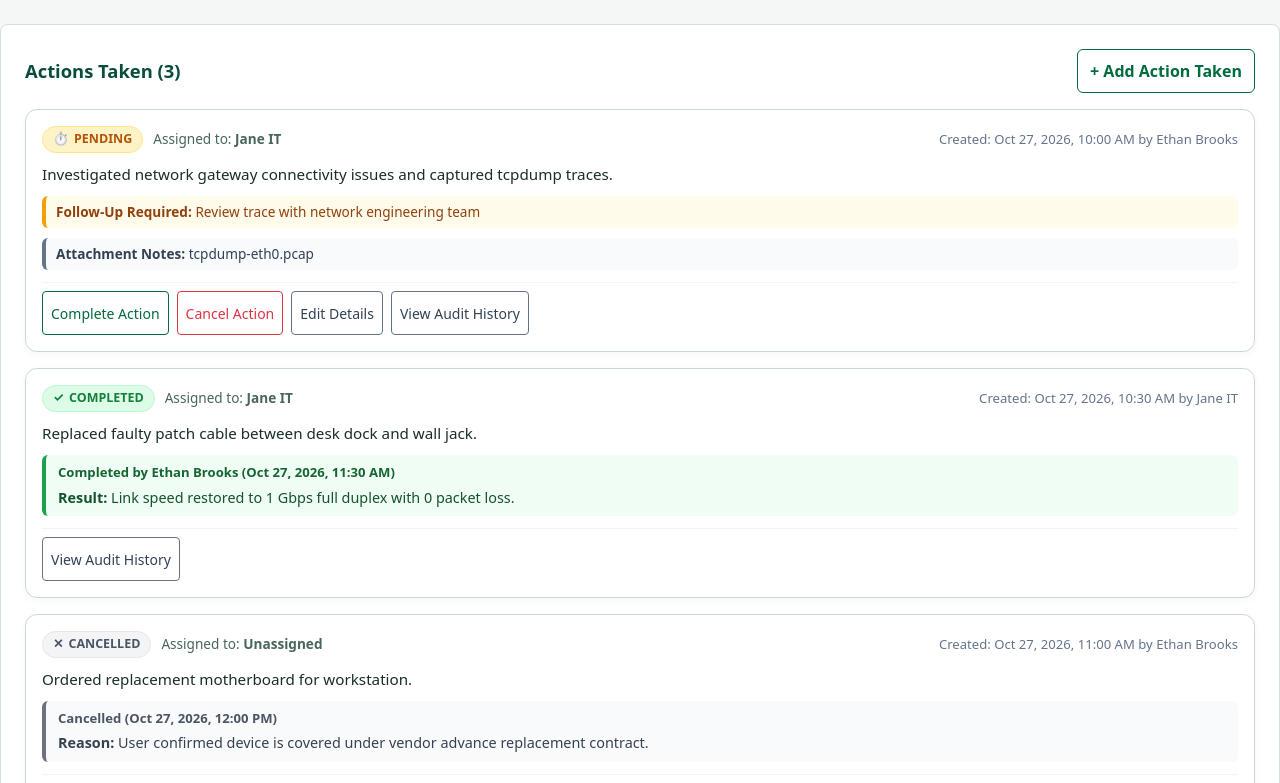
Test case: Lab 4: ActionsTakenSection Component Tests › requires a non-empty cancellation reason (peer requirement) and submits cancellation
Click the button "Cancel Action" at (230, 313), box 177,291 -> 283,335
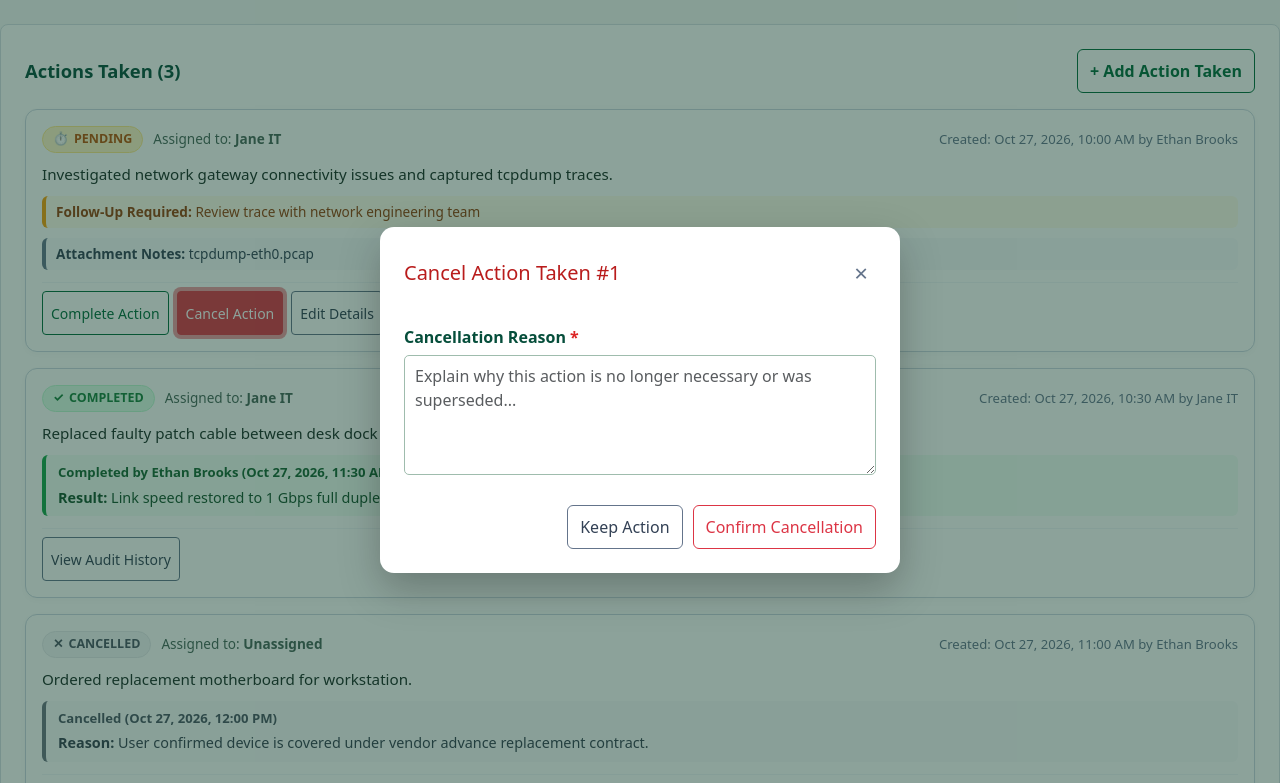
Expected: the dialog "Cancel Action Taken" is shown, 380,227 -> 900,573
Note: Try submitting with empty reason
Click the button "Confirm Cancellation" at (784, 527), box 693,505 -> 876,549
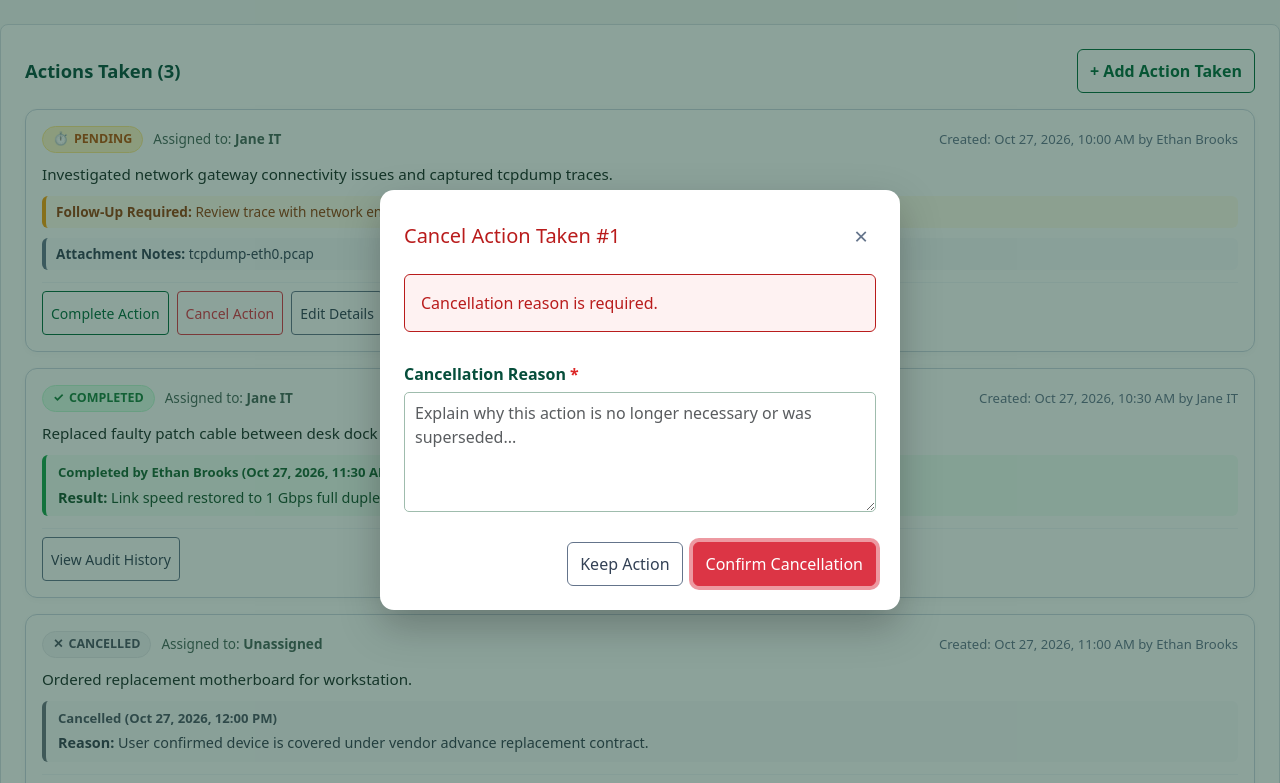
Expected: the text "Cancellation reason is required." is shown, 404,274 -> 876,332
Note: Enter cancellation reason and submit
Type "Superseded by physical switch replacement." into the text box labelled "Cancellation Reason *" at (640, 452), box 404,392 -> 876,512
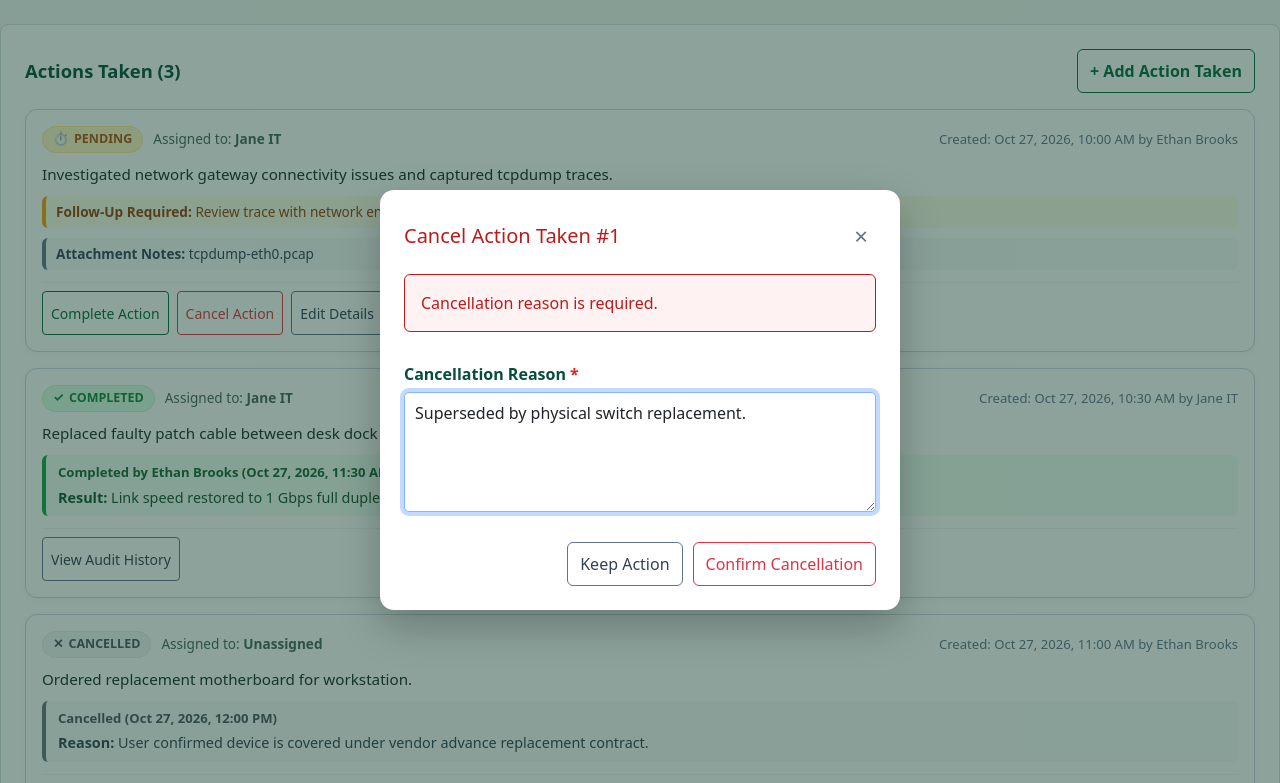
Click the button "Confirm Cancellation" at (784, 564), box 693,542 -> 876,586
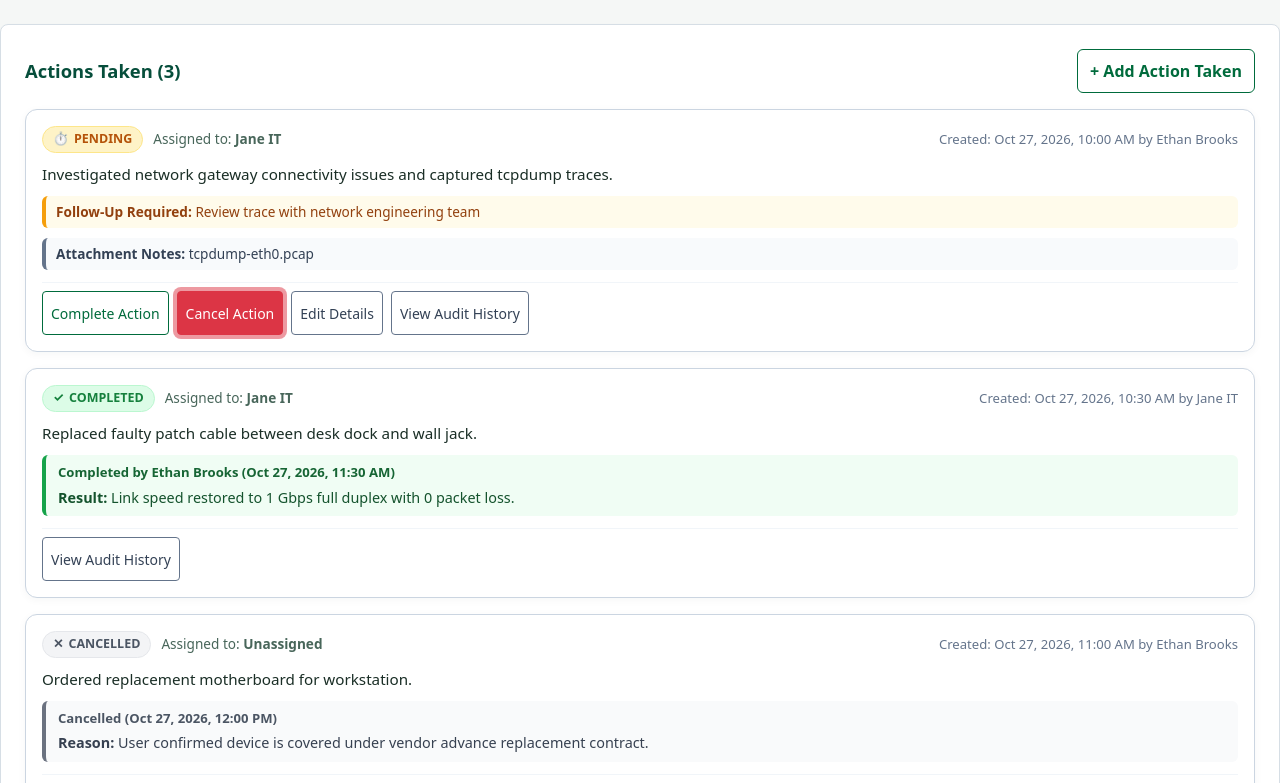
Expected: the dialog is gone
